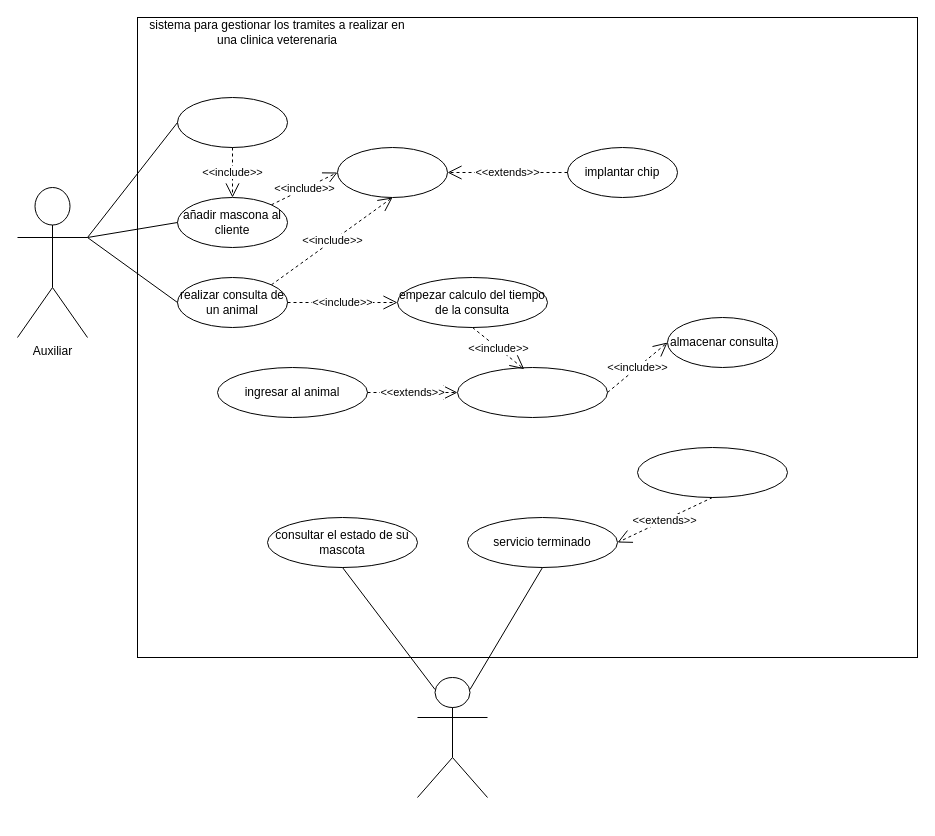
This 935x836 diagram has some shape labels left out. The shapes that lost their labels are listed below. From the top down, each one's box as (x1, y1, x2, y2) in pixels, then its label:
(176, 96, 288, 148): introducir datos de sus clientes
(336, 146, 448, 198): comprobar si lleve chip
(456, 366, 608, 418): finalizar calculo del tiempo de la consulta
(636, 446, 788, 498): realizar pago
(416, 676, 488, 798): cliente
